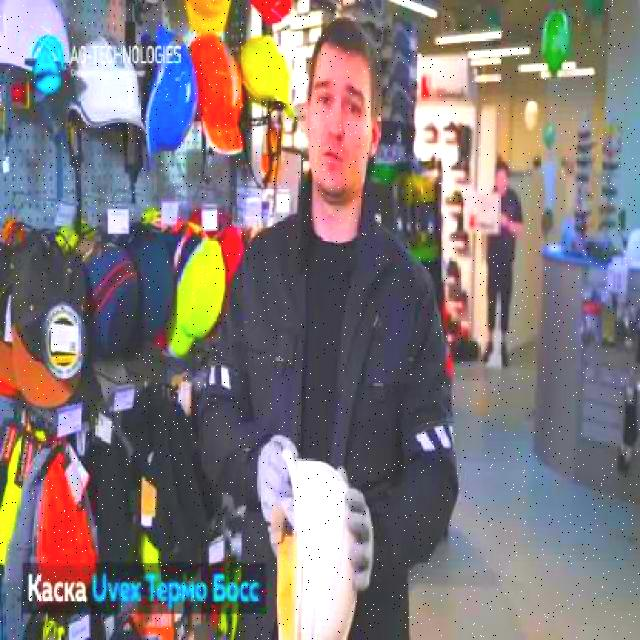Gloves: (256, 436, 298, 538), (344, 484, 378, 594)
Helmet: (274, 450, 362, 638), (64, 32, 148, 134), (143, 25, 200, 167), (190, 32, 246, 160), (0, 0, 75, 89), (236, 34, 296, 122)
